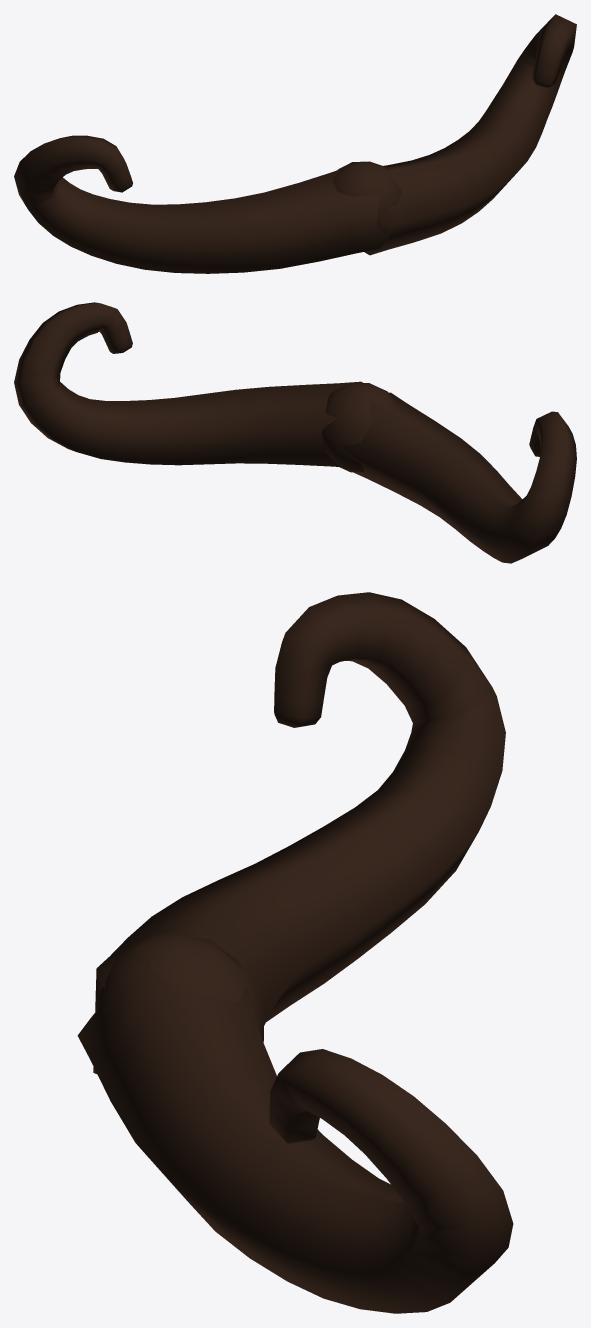
Rendered from acc_moustache.glb.
3 renders of one model, top to bottom at view 1: azimuth 30°, elevation 25°; view 2: azimuth 150°, elevation 25°; view 3: azimuth 270°, elevation 25°, orthographic. The views are drawn at different scales.
Visible parts, largest first — view 1: AccMoustache; view 2: AccMoustache; view 3: AccMoustache.
Part boxes in pixels (left/top/right/bottom): AccMoustache: left=14, top=14, right=576, bottom=273; AccMoustache: left=14, top=302, right=576, bottom=563; AccMoustache: left=77, top=592, right=513, bottom=1313.
Bounding box in the file's own units: 0.4139 × 0.1077 × 0.1428.
